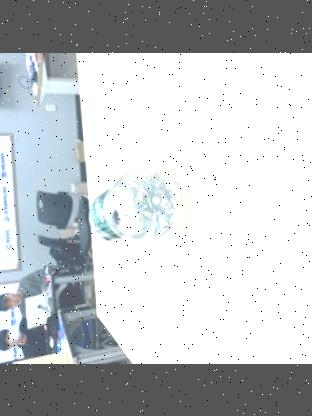Plastic Bottle: (89, 164, 193, 242)
